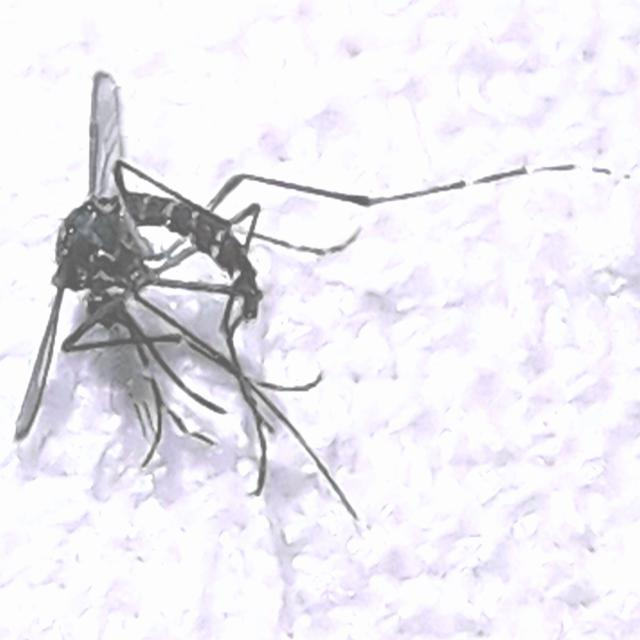albopictus: (14, 58, 383, 524)
